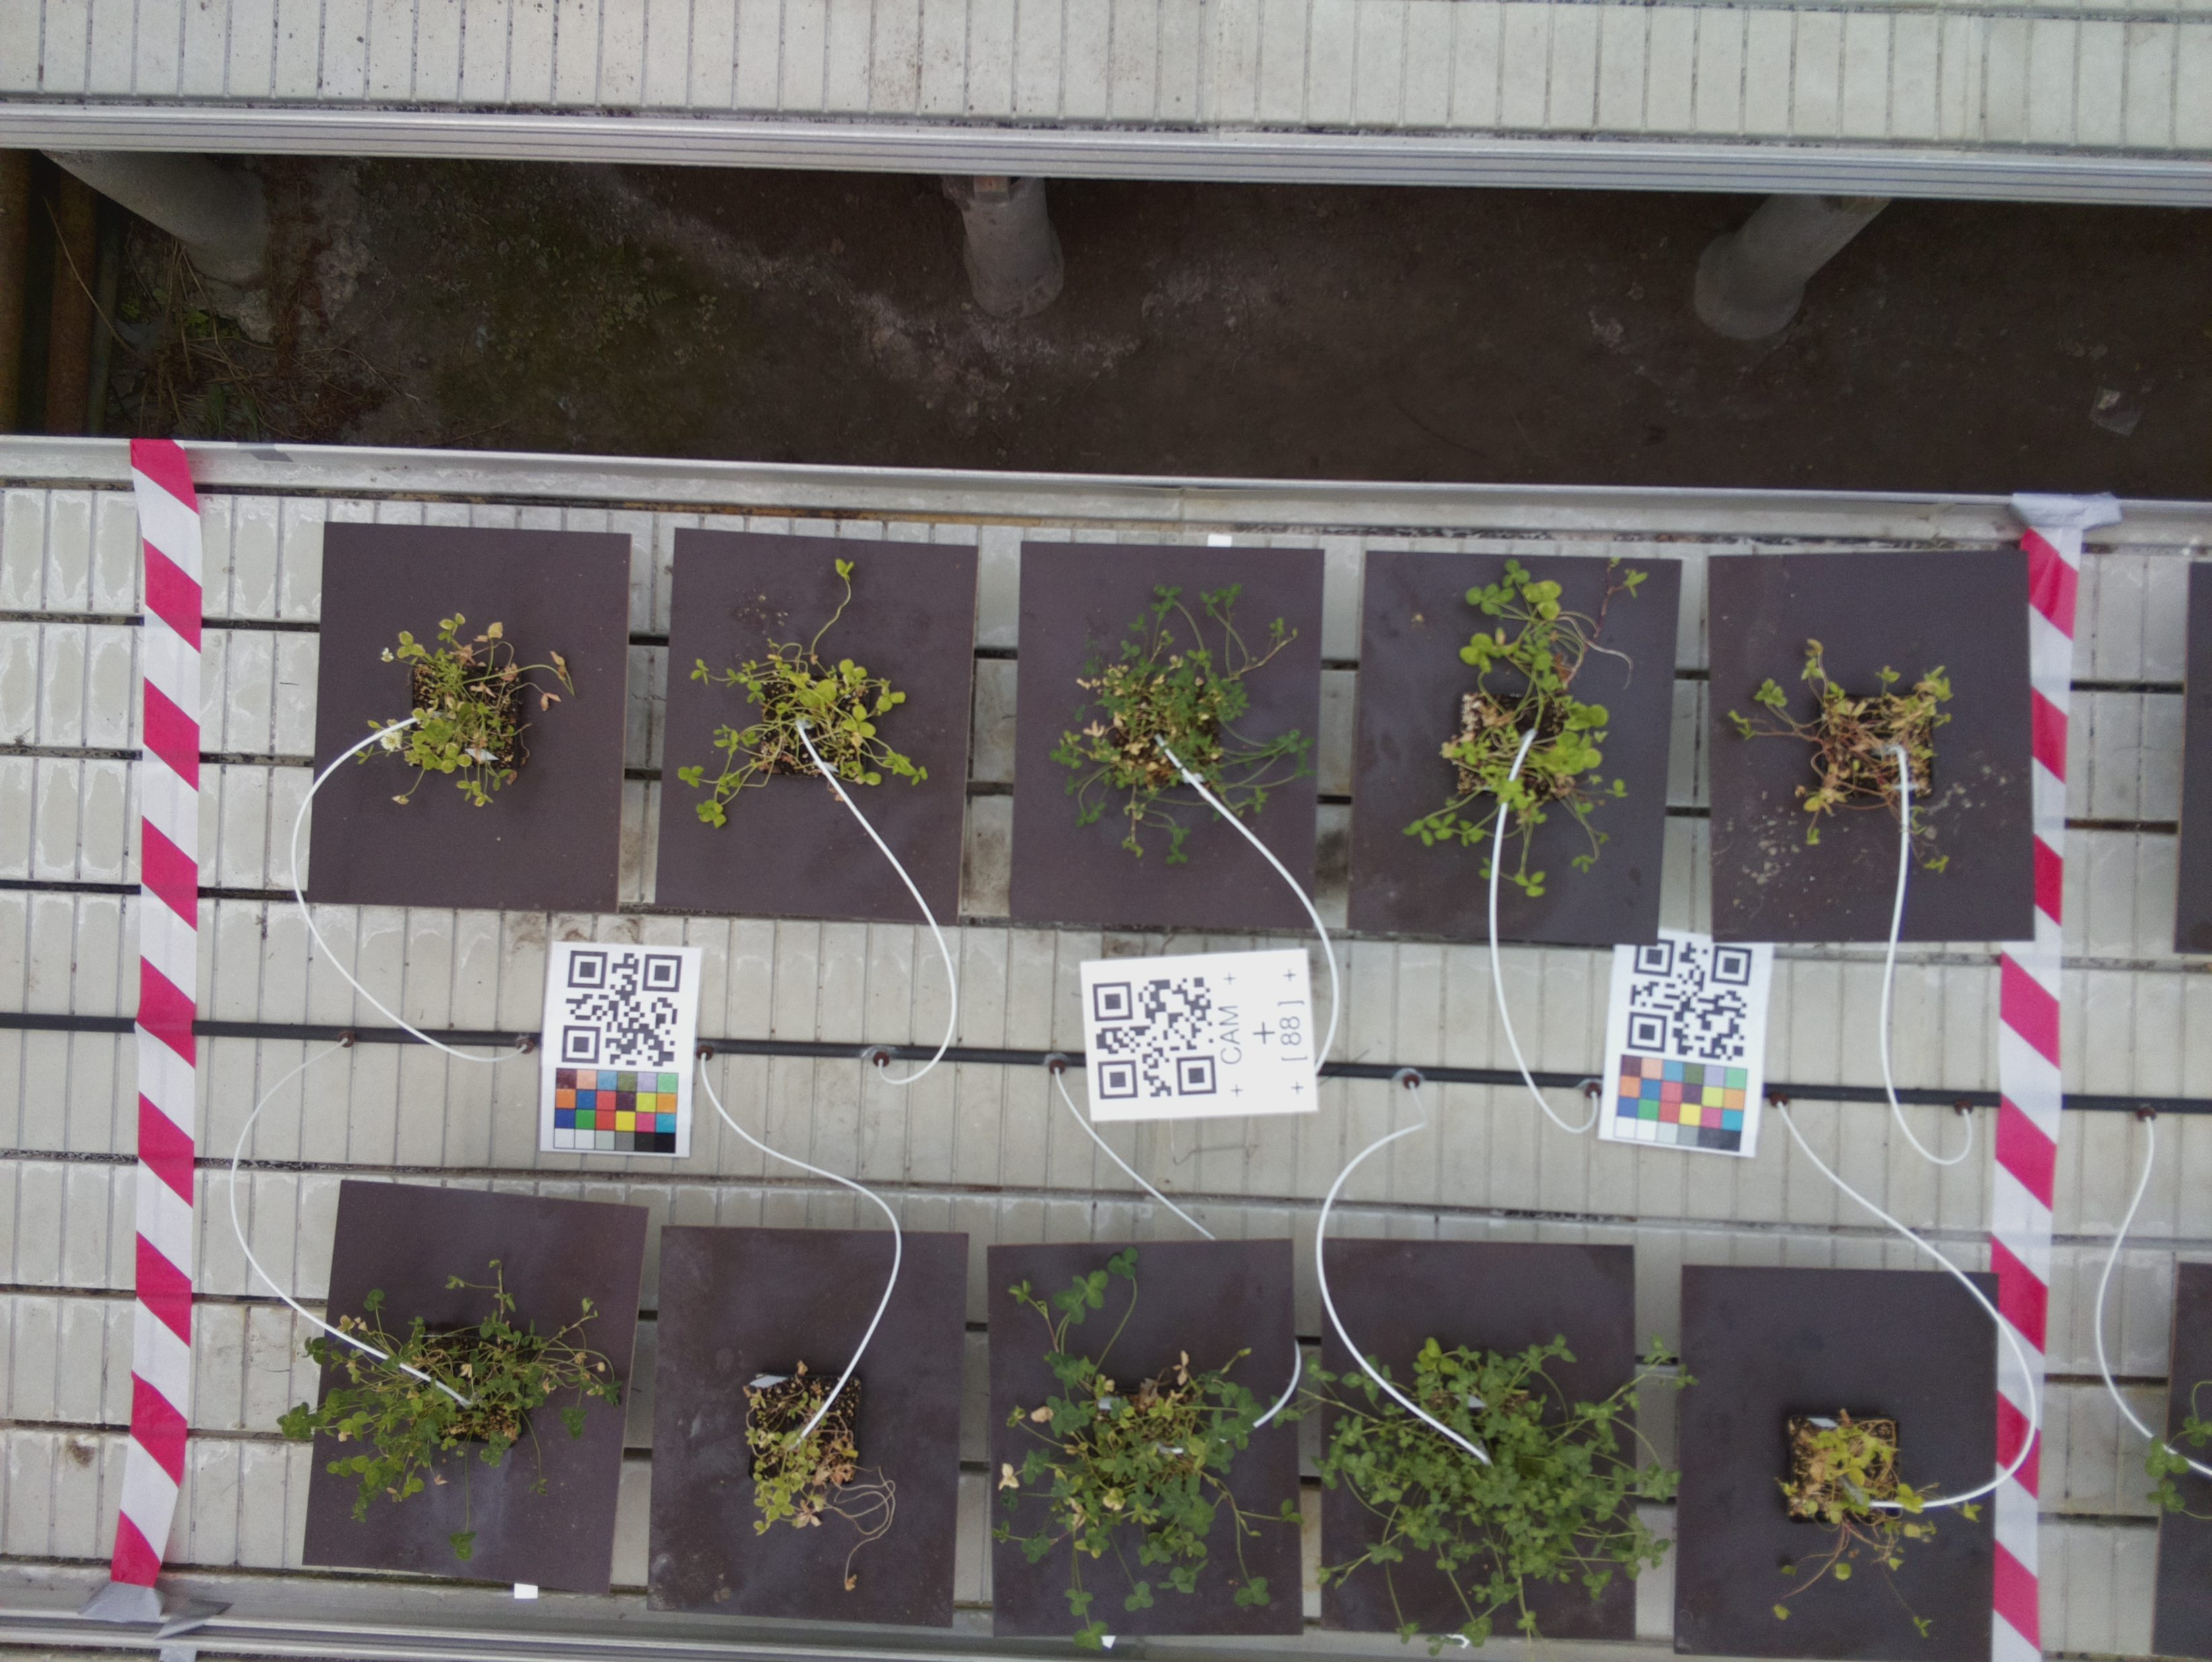POT: (1320, 1238, 1643, 1650), (1706, 552, 2043, 943), (1362, 552, 1681, 953), (1678, 1266, 1994, 1662), (983, 1243, 1299, 1636), (302, 1198, 637, 1568), (325, 519, 627, 913), (656, 1227, 958, 1620), (1018, 541, 1320, 931), (674, 531, 964, 915)
QRCODE: (1081, 950, 1323, 1123)
QRCOLOR: (1597, 943, 1776, 1157), (545, 943, 702, 1156)
